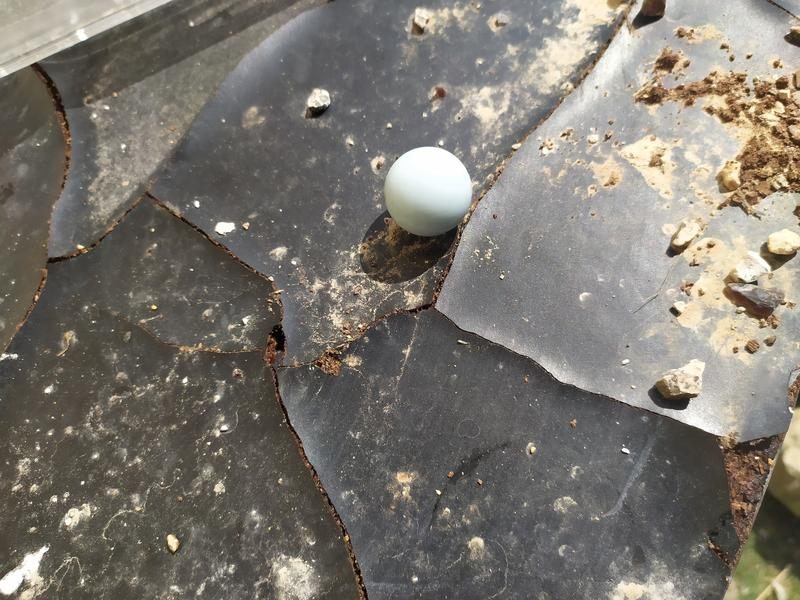Warning: (380, 143, 476, 241)
